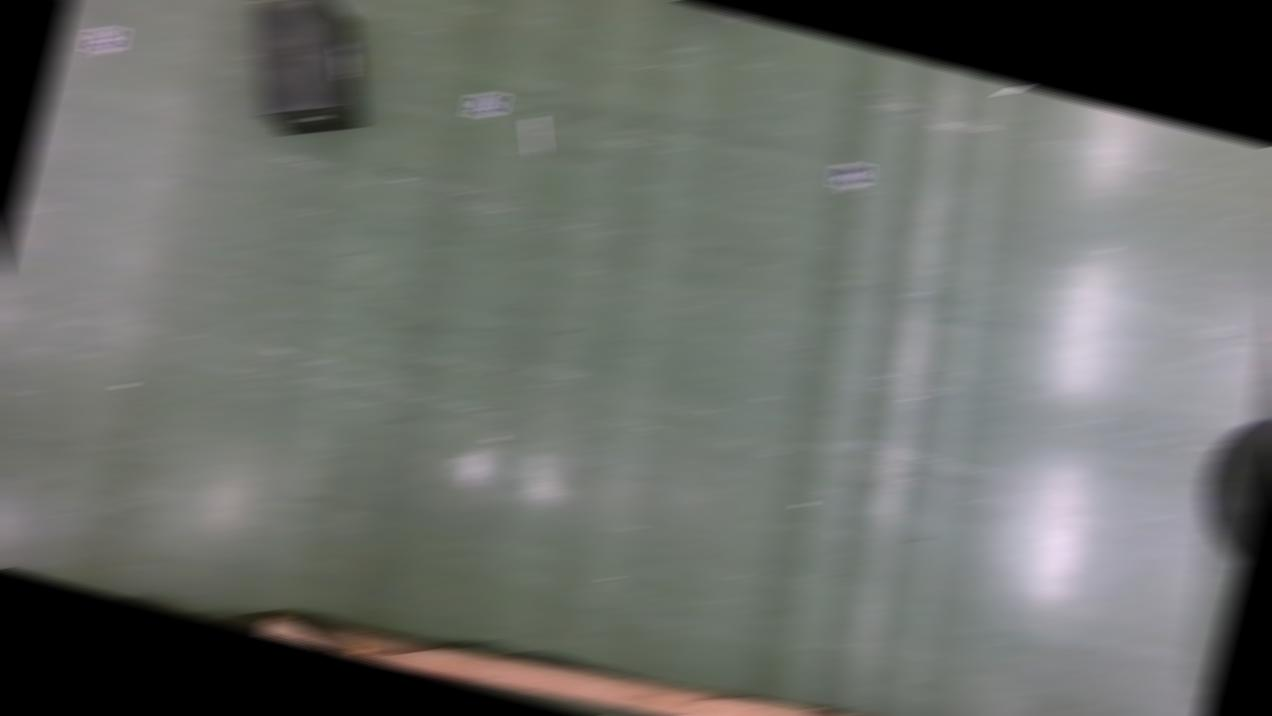probes: (518, 118, 554, 158)
rako: (222, 1, 393, 152)
